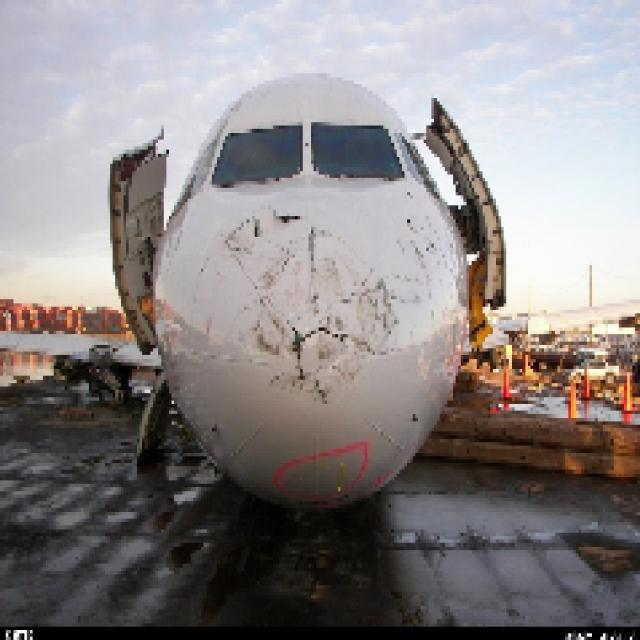crack: (215, 207, 401, 415)
